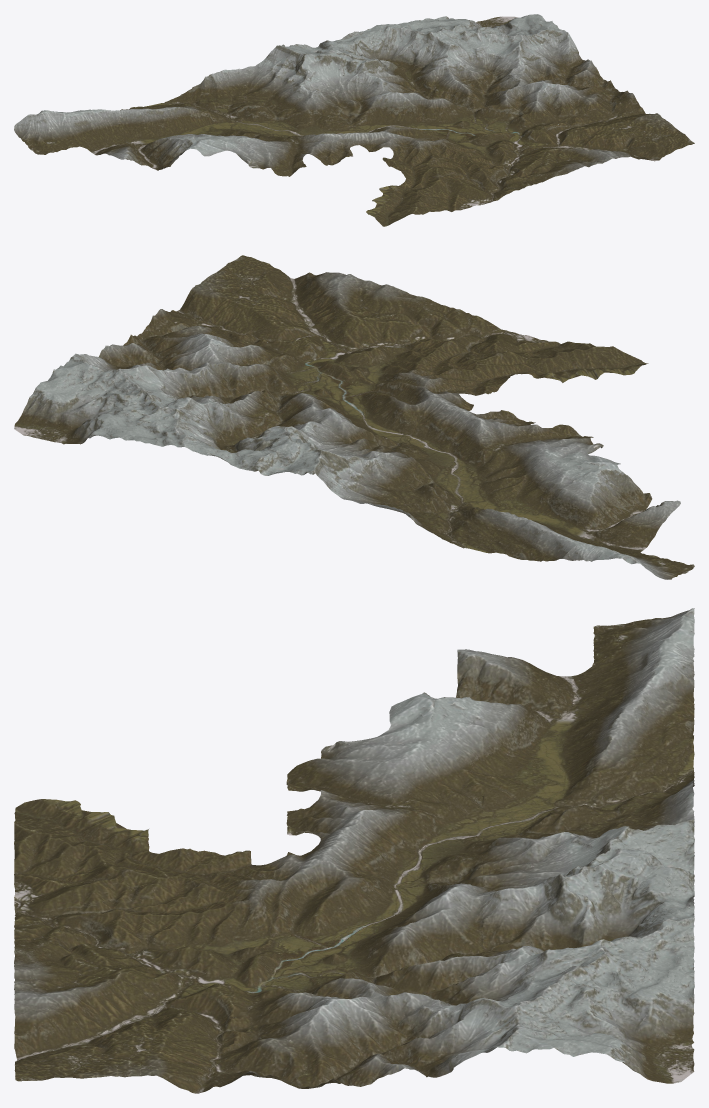
Rendered from stonemountain.glb.
3 views of the same model, one above another, from view 1: azimuth 30°, elevation 25°; view 2: azimuth 150°, elevation 25°; view 3: azimuth 270°, elevation 25° (orthographic). The views are drawn at different scales.
Visible parts, largest first — view 1: g; view 2: g; view 3: g.
Part boxes in pixels (<box>): g: <box>14,14,694,226</box>; g: <box>14,255,694,579</box>; g: <box>14,608,694,1093</box>.
Bounding box in the file's own units: 2 × 0.1297 × 1.25.
Materials: 1 (1 with a texture image).
